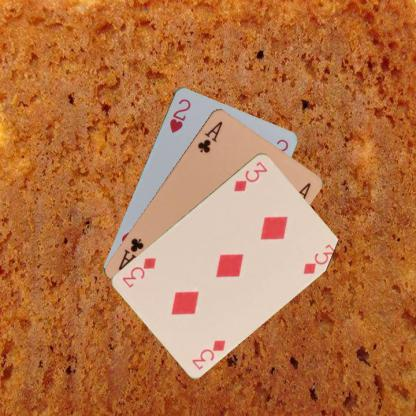2h: (166, 96, 192, 134)
3d: (231, 158, 269, 193), (189, 337, 227, 371)
Ac: (194, 118, 224, 155)
